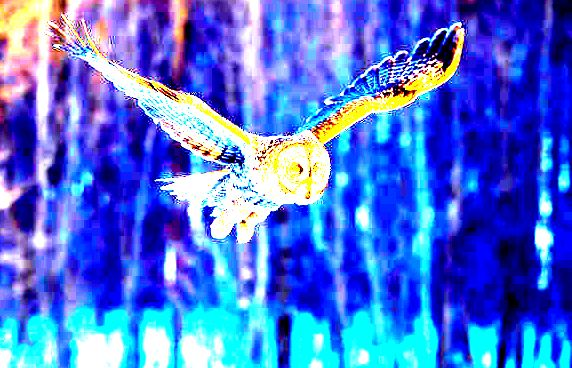Bird: (47, 14, 468, 248)
